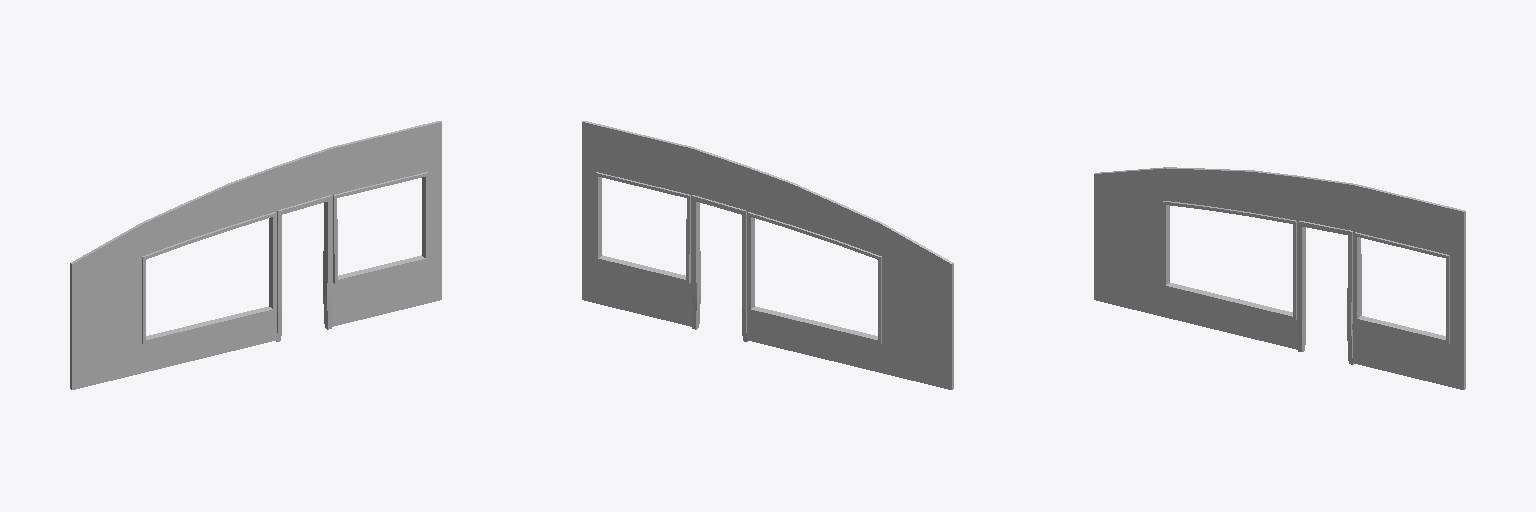
The model's file is frontWall.obj.
The picture shows the model from 3 angles: view 1: azimuth 30°, elevation 25°; view 2: azimuth 150°, elevation 25°; view 3: azimuth 330°, elevation 25°; orthographic projection.
Visible parts, largest first — view 1: wall_geo frontWall_grp walls_geo building_grp; view 2: wall_geo frontWall_grp walls_geo building_grp; view 3: wall_geo frontWall_grp walls_geo building_grp.
Boxes of the visible parts, box(x1,y1,x2,y2) form: wall_geo frontWall_grp walls_geo building_grp: box(70, 121, 441, 389); wall_geo frontWall_grp walls_geo building_grp: box(582, 121, 953, 389); wall_geo frontWall_grp walls_geo building_grp: box(1094, 167, 1465, 389).
Bounding box in the file's own units: 398 × 184 × 8.01.